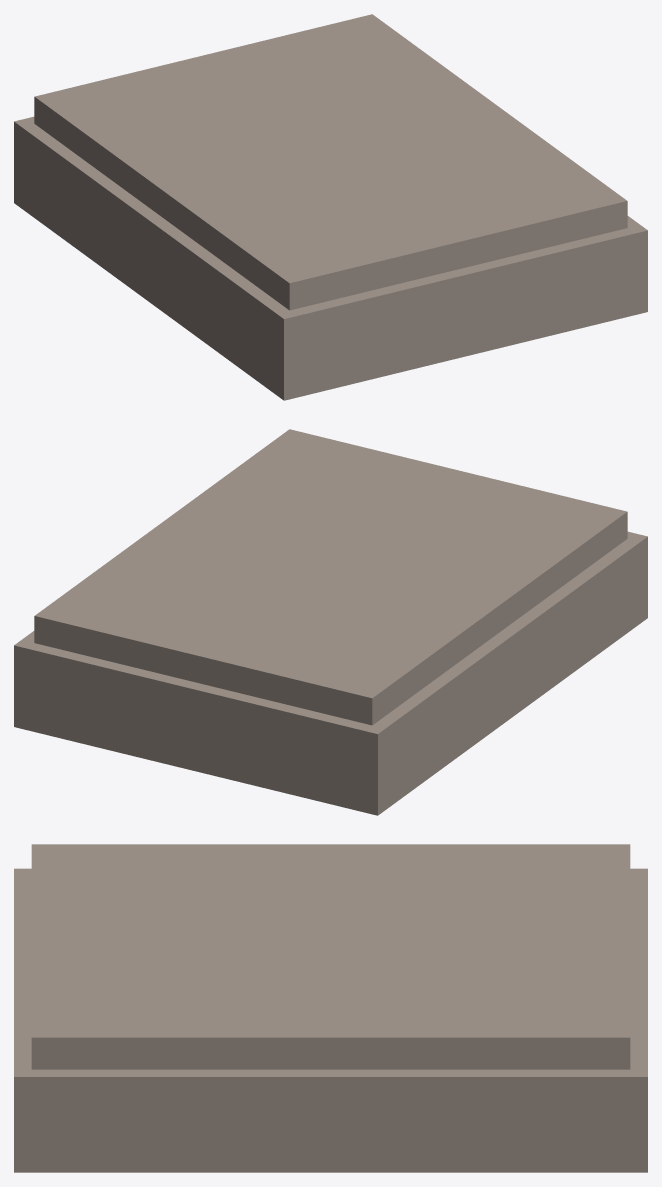
File: prop.glb
3 views of the same model, one above another, from view 1: azimuth 30°, elevation 25°; view 2: azimuth 150°, elevation 25°; view 3: azimuth 270°, elevation 25° (orthographic). The views are drawn at different scales.
Visible parts, largest first — view 1: Cloth; view 2: Cloth; view 3: Cloth.
Boxes of the visible parts, box(x1,y1,x2,y2) form: Cloth: box(14, 14, 647, 400); Cloth: box(14, 429, 647, 815); Cloth: box(14, 844, 647, 1172).
Bounding box in the file's own units: 0.28 × 0.08 × 0.36.
